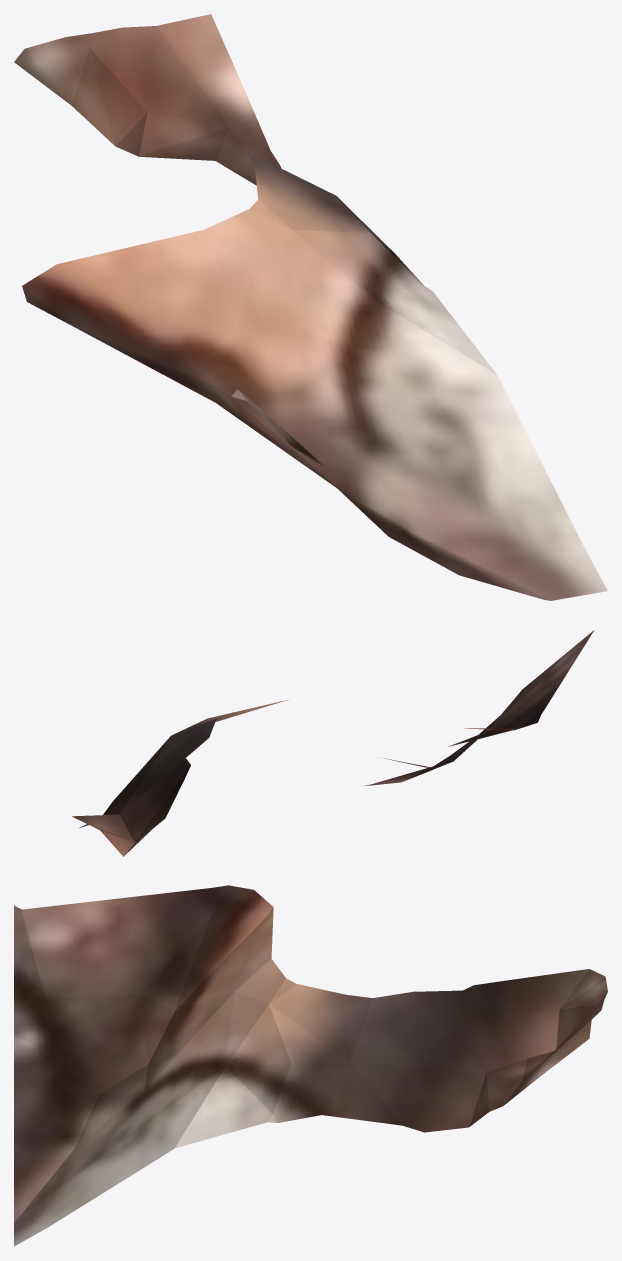
3 renders of one model, top to bottom at view 1: azimuth 30°, elevation 25°; view 2: azimuth 150°, elevation 25°; view 3: azimuth 270°, elevation 25°, orthographic. The views are drawn at different scales.
Bounding box in the file's own units: 0.2015 × 0.1274 × 0.3299.
1 material, 1 textured.
